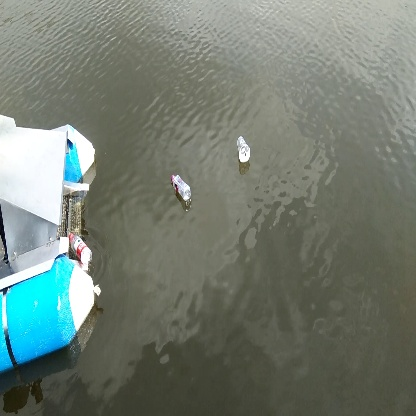bottle: (168, 171, 197, 205), (233, 131, 255, 165)
